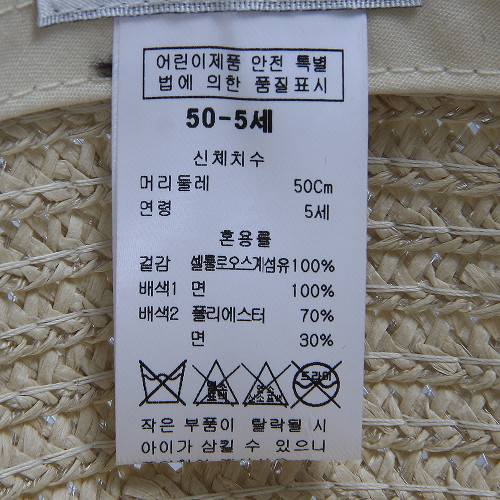KR_no_bleach: (243, 358, 289, 410)
KR_no_chlorine_bleach: (193, 360, 238, 409)
KR_no_dry_clean: (292, 361, 341, 408)
KR_no_wash: (138, 358, 188, 407)
